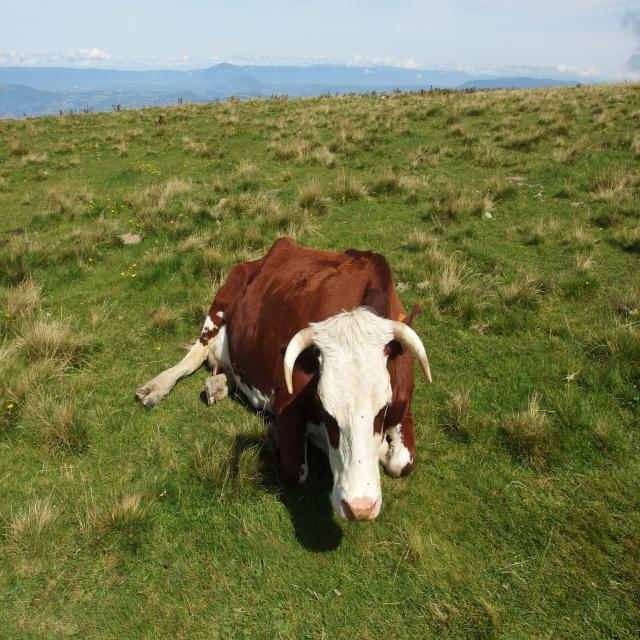cow: (136, 238, 431, 522)
